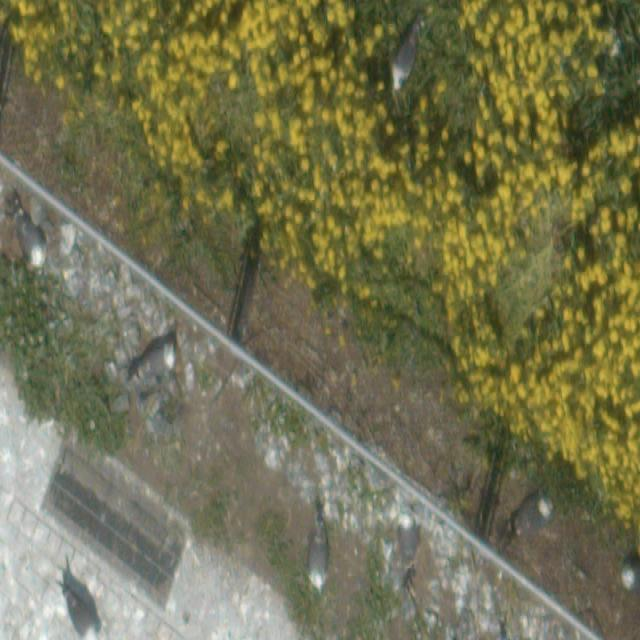umineko: (504, 494, 553, 545), (12, 204, 47, 273), (131, 339, 179, 386), (391, 20, 422, 92), (306, 507, 329, 592), (66, 590, 96, 639), (621, 556, 636, 597), (400, 521, 415, 556)
